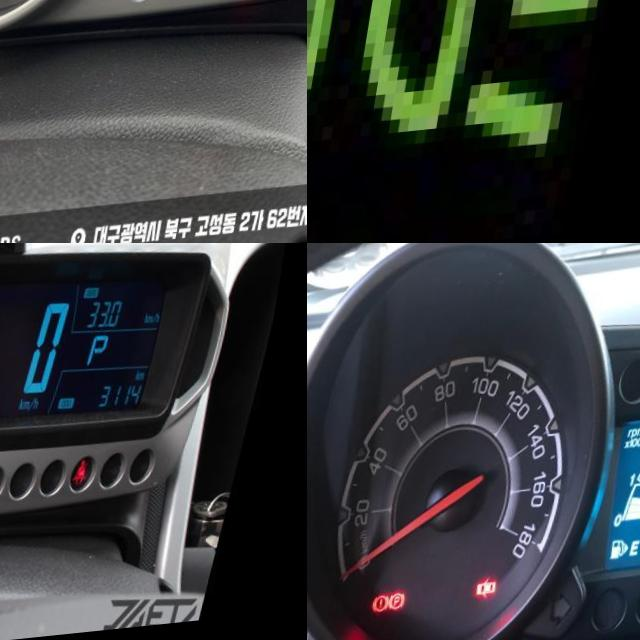Doors: (487, 582, 511, 606)
SideLamp: (307, 0, 614, 195)
